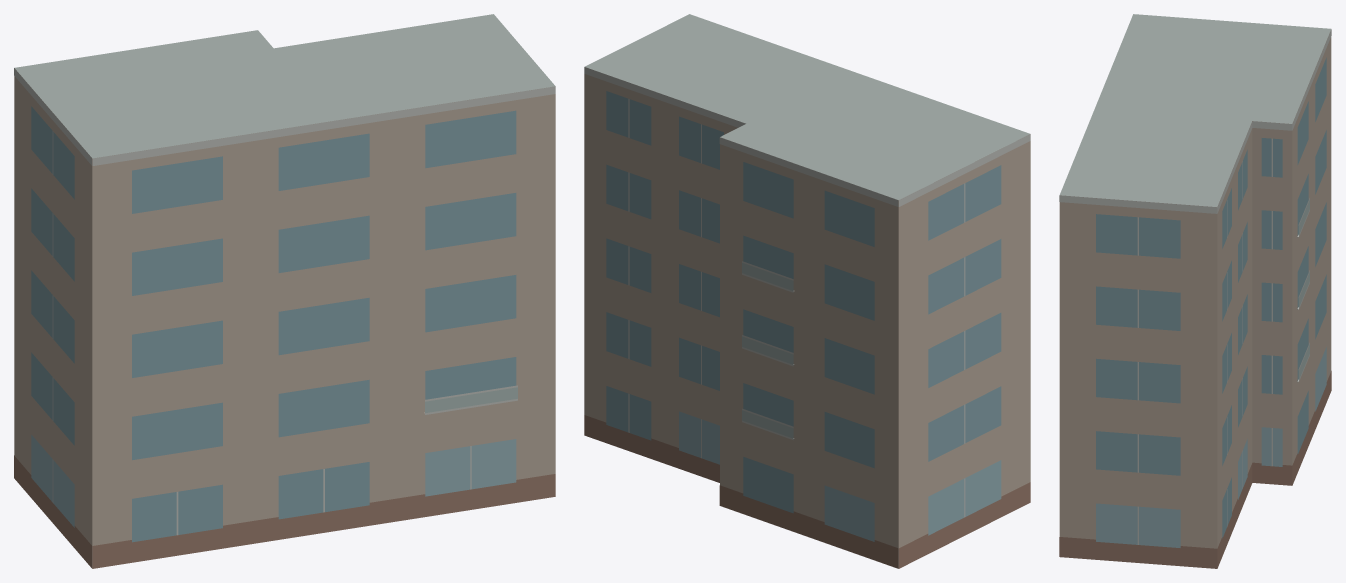
File: survey-upis-32641316.glb
3 views of the same model, side by side, from view 1: azimuth 30°, elevation 25°; view 2: azimuth 150°, elevation 25°; view 3: azimuth 270°, elevation 25° (orthographic). The views are drawn at different scales.
Visible parts, largest first — view 1: survey-upis-32641316.tmp; view 2: survey-upis-32641316.tmp; view 3: survey-upis-32641316.tmp.
Boxes of the visible parts, <box> form: survey-upis-32641316.tmp: <box>14,14,555,568</box>; survey-upis-32641316.tmp: <box>584,14,1030,568</box>; survey-upis-32641316.tmp: <box>1059,14,1331,568</box>.
Size of the model in its own units: 14.9 by 13 by 8.87.
